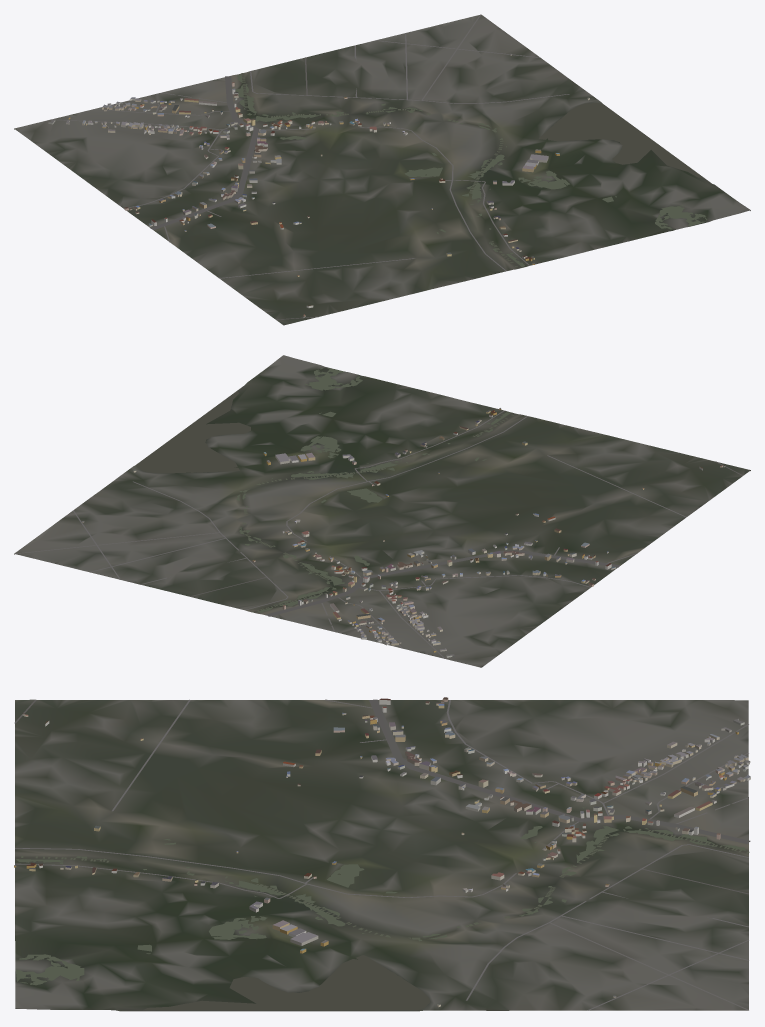
3 renders of one model, top to bottom at view 1: azimuth 30°, elevation 25°; view 2: azimuth 150°, elevation 25°; view 3: azimuth 270°, elevation 25°, orthographic. The views are drawn at different scales.
Visible parts, largest first — view 1: ground, water, buildings, roads; view 2: ground, water, buildings, roads; view 3: ground, water, buildings, roads.
Part boxes in pixels (bbox=[...]): ground: bbox=[14, 14, 750, 325]; water: bbox=[235, 73, 711, 267]; buildings: bbox=[48, 53, 589, 317]; roads: bbox=[50, 14, 569, 319]; ground: bbox=[14, 355, 750, 667]; water: bbox=[136, 367, 513, 612]; buildings: bbox=[82, 408, 725, 657]; roads: bbox=[14, 410, 743, 658]; ground: bbox=[15, 699, 748, 1011]; water: bbox=[15, 807, 749, 1010]; buildings: bbox=[14, 697, 750, 1007]; roads: bbox=[14, 699, 750, 1010].
Bounding box in the file's own units: 1406 × 19.68 × 1408.
